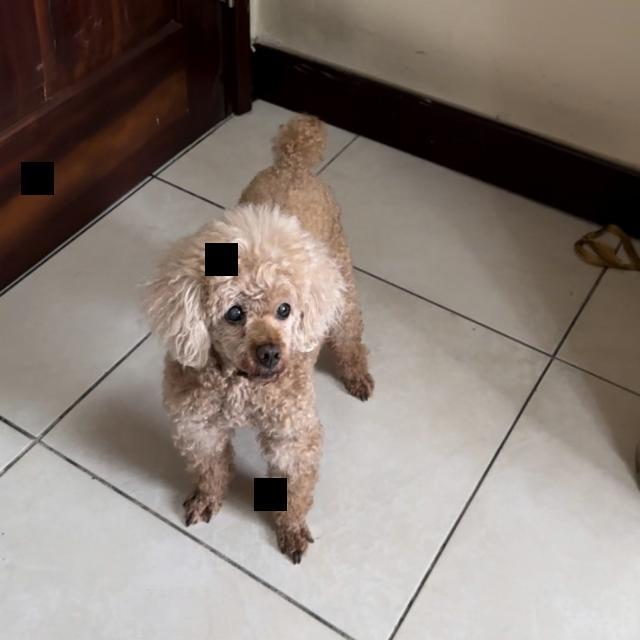adult_dog: (137, 109, 376, 564)
